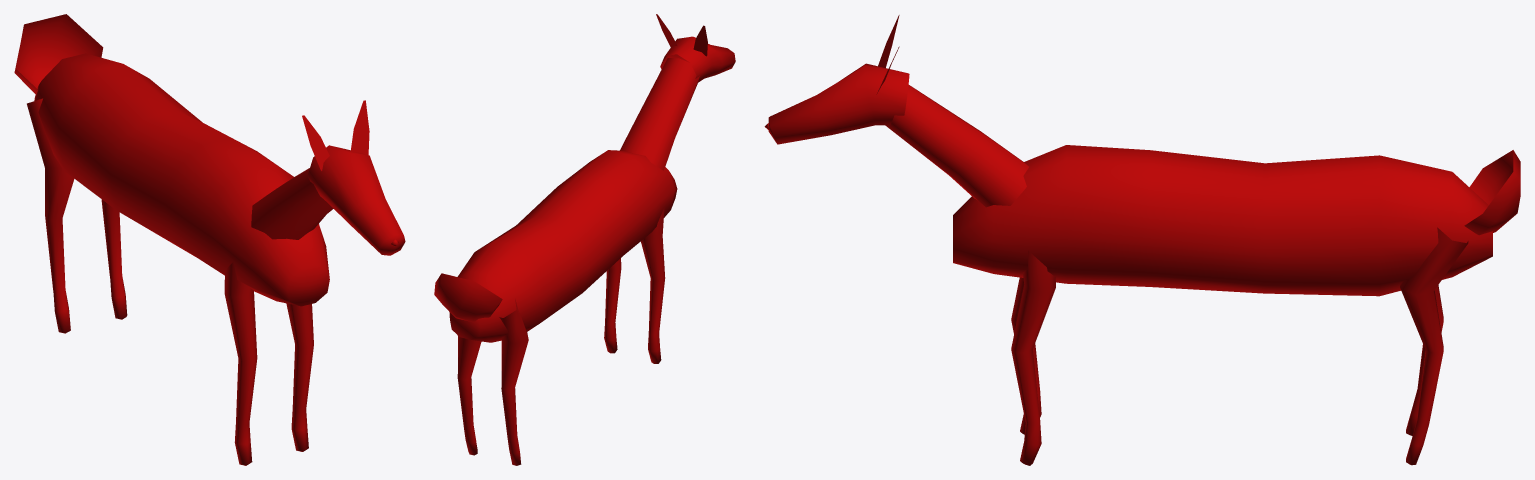
The model's file is sika.glb.
3 renders of one model, left to right at view 1: azimuth 30°, elevation 25°; view 2: azimuth 150°, elevation 25°; view 3: azimuth 270°, elevation 25°, orthographic. The views are drawn at different scales.
Parts seen in each view (by area): view 1: body, head, leg_lf, leg_lh, tail, leg_rf, leg_rh; view 2: body, head, leg_lh, tail, leg_lf, leg_rh, leg_rf; view 3: body, head, leg_rh, leg_rf, tail.
Part boxes in pixels (x1,y1,x2,y2): body: [34, 53, 329, 306]; head: [251, 100, 405, 255]; leg_lf: [224, 262, 257, 465]; leg_lh: [27, 98, 74, 333]; tail: [14, 14, 103, 94]; leg_rf: [286, 303, 313, 451]; leg_rh: [101, 199, 127, 319]; body: [449, 150, 677, 342]; head: [620, 14, 735, 170]; leg_lh: [499, 299, 528, 465]; tail: [434, 273, 502, 322]; leg_lf: [641, 207, 665, 363]; leg_rh: [449, 311, 481, 455]; leg_rf: [604, 258, 621, 353]; body: [953, 145, 1492, 296]; head: [764, 15, 1028, 207]; leg_rh: [1400, 227, 1468, 465]; leg_rf: [1011, 250, 1055, 465]; tail: [1464, 150, 1520, 235].
Bounding box in the file's own units: 0.3438 × 1.25 × 2.04.
